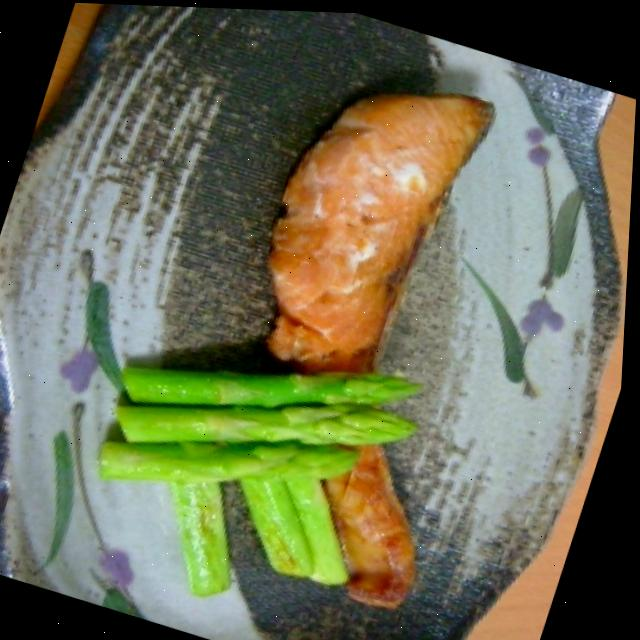熟制海鲜: (172, 25, 573, 625)
